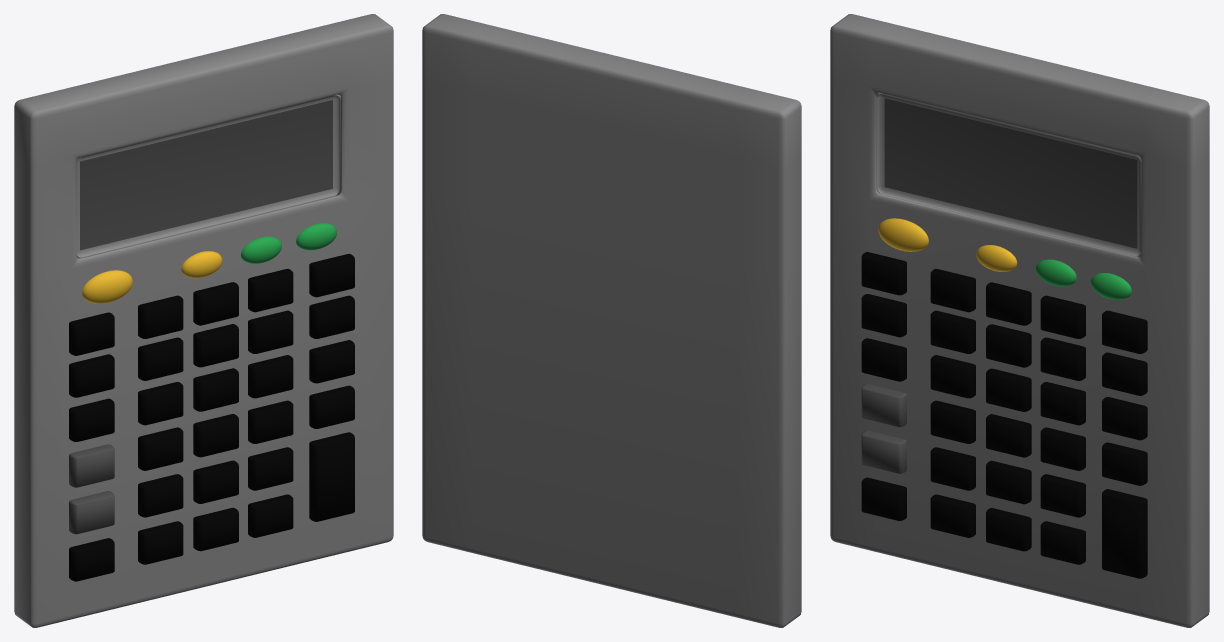
Rendered from calculator.gltf.
The picture shows the model from 3 angles, left to right: view 1: azimuth 30°, elevation 25°; view 2: azimuth 150°, elevation 25°; view 3: azimuth 330°, elevation 25°; orthographic projection.
Parts seen in each view (by area): view 1: Cube, Cube.029, Cube.004, Cube.012, Cube.015, Cube.016, Cube.021, Cube.023, Cube.024, Cube.001, Cube.002, Cube.010 (+22 smaller); view 2: Cube; view 3: Cube, Cube.029, Cube.015, Cube.025, Cube.001, Cube.004, Cube.009, Cube.011, Cube.012, Cube.024, Cube.003, Cube.005 (+22 smaller).
Boxes of the visible parts, left/top/right/bottom form: Cube: left=14, top=14, right=393, bottom=627; Cube.029: left=309, top=432, right=354, bottom=521; Cube.004: left=69, top=444, right=114, bottom=487; Cube.012: left=138, top=521, right=183, bottom=564; Cube.015: left=193, top=368, right=238, bottom=411; Cube.016: left=193, top=414, right=238, bottom=457; Cube.021: left=248, top=355, right=293, bottom=398; Cube.023: left=248, top=447, right=293, bottom=490; Cube.024: left=248, top=494, right=293, bottom=537; Cube.001: left=69, top=312, right=114, bottom=355; Cube.002: left=69, top=354, right=114, bottom=397; Cube.010: left=138, top=427, right=183, bottom=470; Cube: left=422, top=14, right=801, bottom=627; Cube: left=830, top=14, right=1209, bottom=627; Cube.029: left=1102, top=489, right=1147, bottom=578; Cube.015: left=986, top=368, right=1031, bottom=411; Cube.025: left=1102, top=310, right=1147, bottom=353; Cube.001: left=861, top=252, right=906, bottom=295; Cube.004: left=861, top=383, right=906, bottom=427; Cube.009: left=930, top=355, right=975, bottom=398; Cube.011: left=930, top=447, right=975, bottom=490; Cube.012: left=930, top=494, right=975, bottom=537; Cube.024: left=1040, top=521, right=1085, bottom=564; Cube.003: left=861, top=338, right=906, bottom=381; Cube.005: left=861, top=430, right=906, bottom=473.
Size of the model in its own units: 1.6 by 2.17 by 0.1924.
